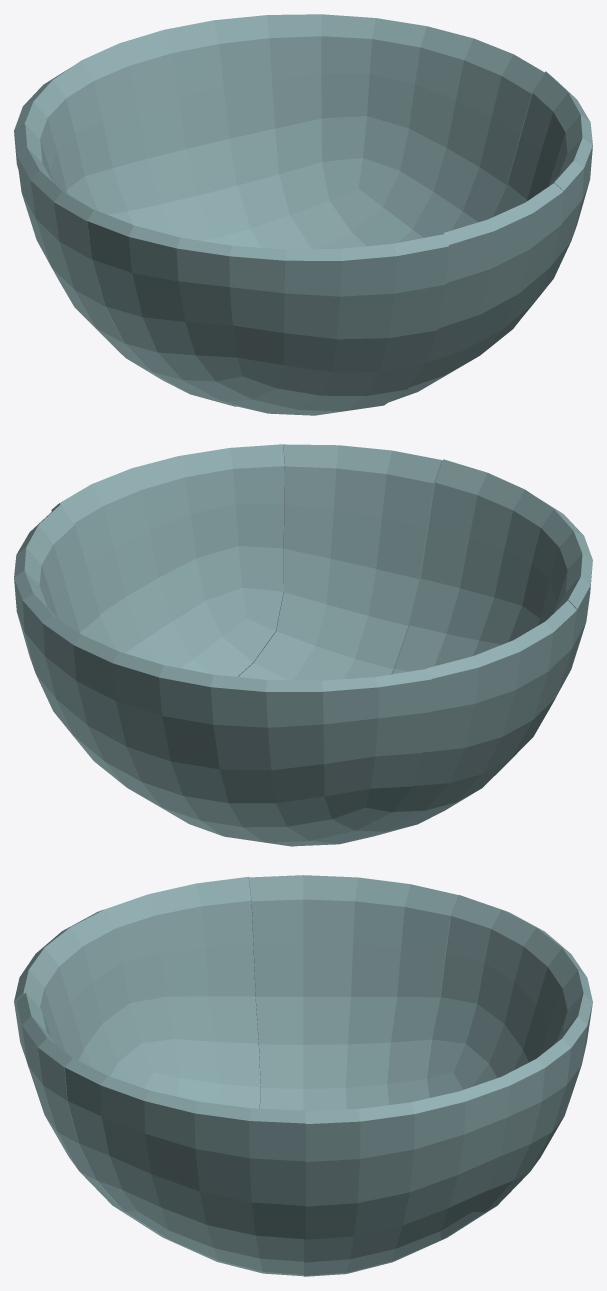
The model's file is bowlbroken.fbx.
3 renders of one model, top to bottom at view 1: azimuth 30°, elevation 25°; view 2: azimuth 150°, elevation 25°; view 3: azimuth 270°, elevation 25°, orthographic.
Visible parts, largest first — view 1: Cube.002; view 2: Cube.002; view 3: Cube.002.
Boxes of the visible parts, left/top/right/bottom form: Cube.002: left=14, top=14, right=592, bottom=415; Cube.002: left=14, top=444, right=592, bottom=846; Cube.002: left=14, top=875, right=592, bottom=1276.
Bounding box in the file's own units: 192 × 90.59 × 192.
